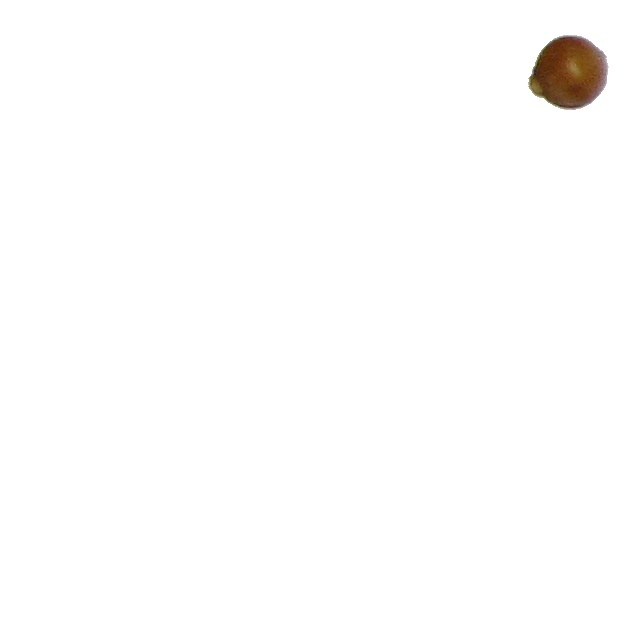mais: (527, 34, 610, 111)
